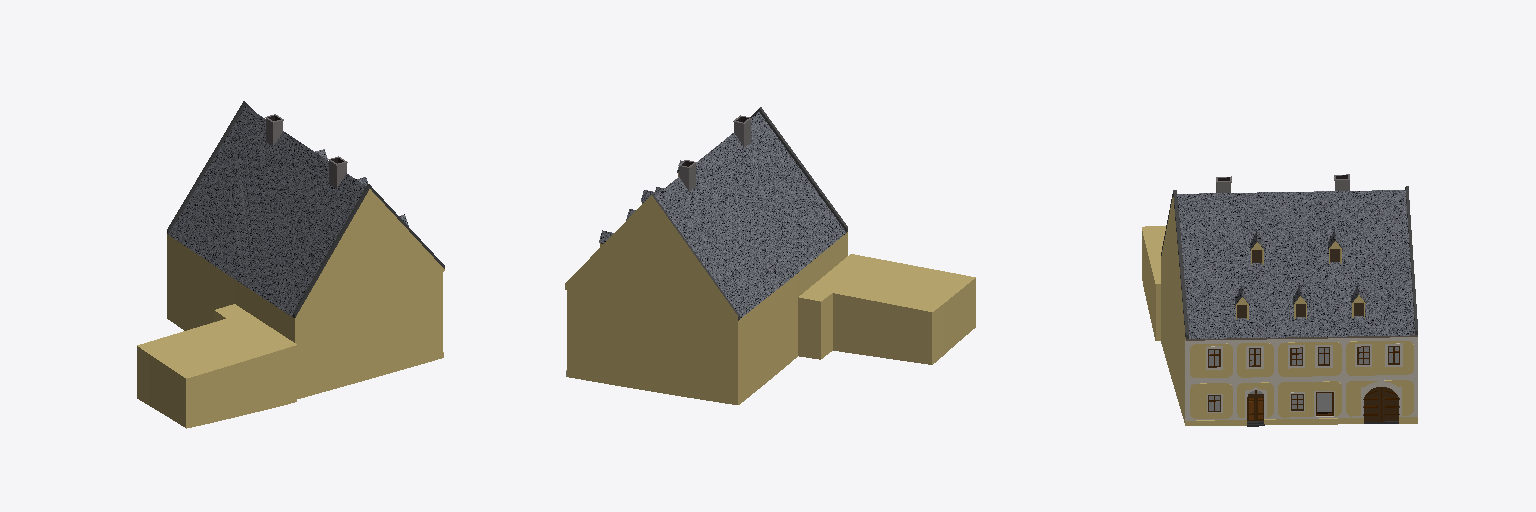
3 renders of one model, left to right at view 1: azimuth 30°, elevation 25°; view 2: azimuth 150°, elevation 25°; view 3: azimuth 270°, elevation 25°, orthographic.
Visible parts, largest first — view 1: Model_Model.002; view 2: Model_Model.002; view 3: Model_Model.002.
Part boxes in pixels (x1,y1,x2,y2): Model_Model.002: (137,101,444,428); Model_Model.002: (565,107,975,404); Model_Model.002: (1142,174,1417,426).
Bounding box in the file's own units: 2.25 × 1.56 × 1.9.
17 materials, 1 textured.